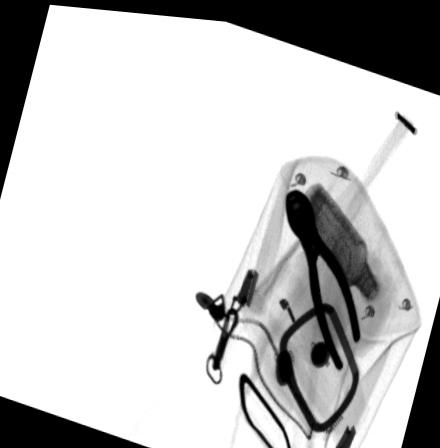Pliers: (284, 181, 361, 365)
